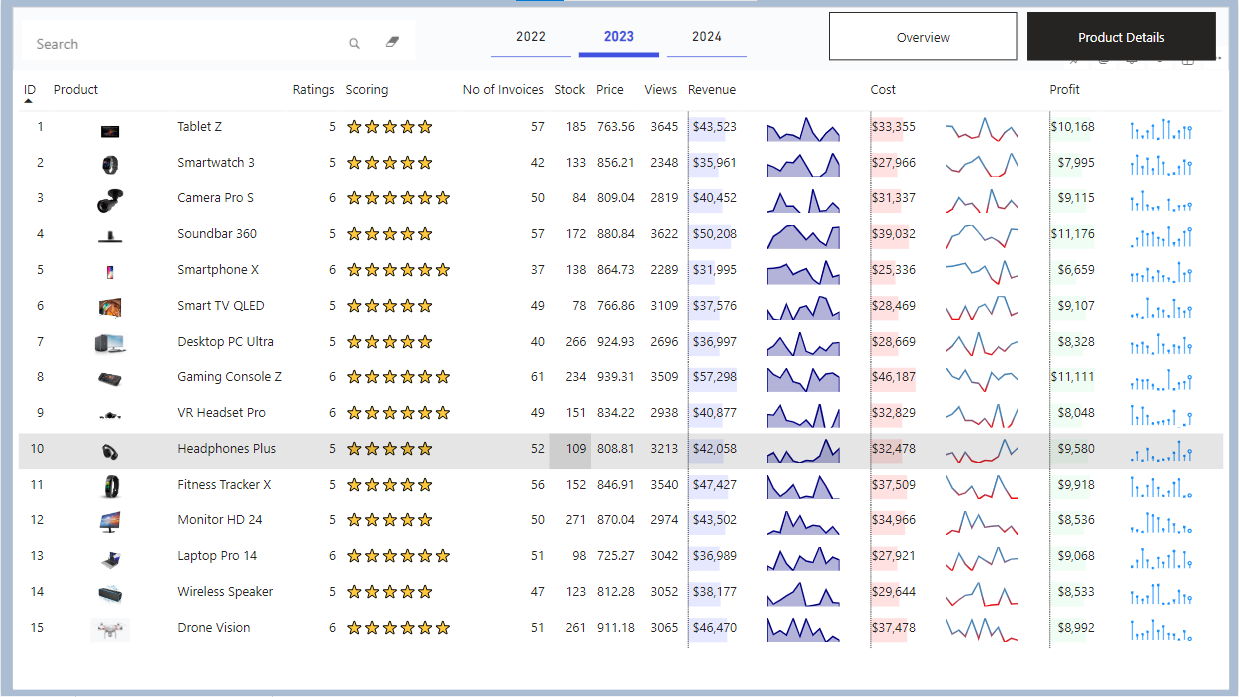

Layout of this report page (visuals, bound fields, positions):
{"tool":"powerbi","page":{"name":"Product Details ","canvas":[1280,720],"ordinal":1},"visuals":[{"type":"tableEx","fields":{"Values":["dimProduct.Product ID","dimProduct.Img","dimProduct.Product","All Measures.Avg Score","All Measures.Scoring","All Measures.No of Invoices","dimProduct.Stock Quantity","Avg(factSalesData.Sales Amount (USD))","All Measures.Views","All Measures.Revenue","All Measures.Revenue Sparkline","All Measures.Cost"]},"box":[12.3,72,1258.2,641],"z":0},{"type":"advancedSlicerVisual","fields":{"Values":["Calendar.Year"]},"box":[501.9,9.7,275.3,55.4],"z":2000},{"type":"pageNavigator","box":[857,12.3,400.4,50],"z":2001},{"type":"textFilter25A4896A83E0487089E2B90C9AE57C8A","fields":{"field":["dimProduct.Product"]},"box":[22,20.2,406.5,42.1],"z":2002}]}

Visuals, with their boxes in screenshot pixels (x1, y1, x2, y2), scaled from the page's 1280x720 canvas onto the 1239x697 screenshot:
tableEx - dimProduct.Product ID x dimProduct.Img: [left=12, top=70, right=1230, bottom=690]
advancedSlicerVisual - Calendar.Year: [left=486, top=9, right=752, bottom=63]
pageNavigator: [left=830, top=12, right=1217, bottom=60]
textFilter25A4896A83E0487089E2B90C9AE57C8A - dimProduct.Product: [left=21, top=20, right=415, bottom=60]
